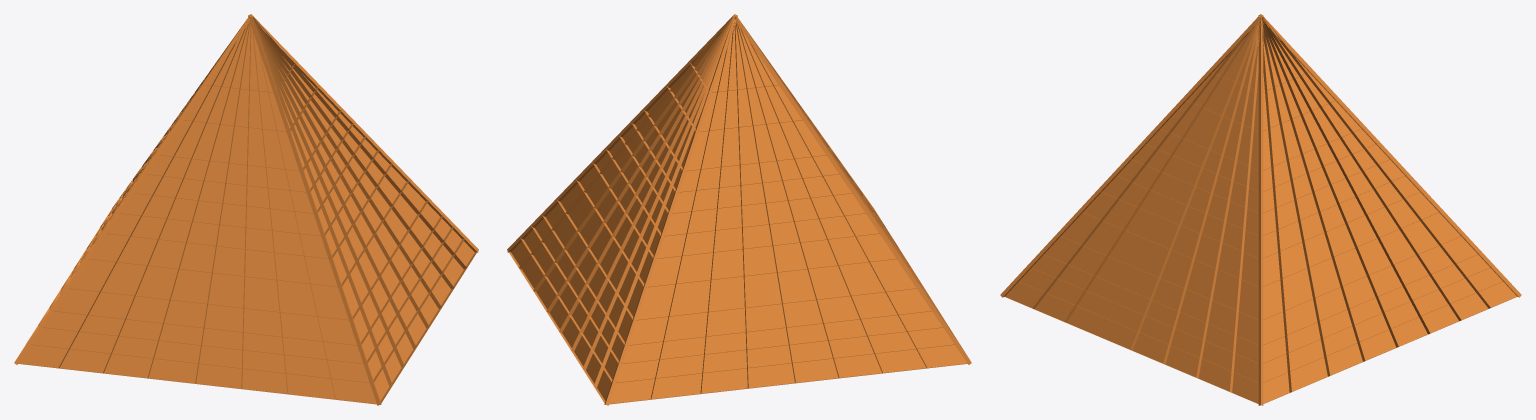
The picture shows the model from 3 angles, left to right: view 1: azimuth 30°, elevation 25°; view 2: azimuth 150°, elevation 25°; view 3: azimuth 270°, elevation 25°; orthographic projection. The views are drawn at different scales.
Parts seen in each view (by area): view 1: pyramid; view 2: pyramid; view 3: pyramid.
Part boxes in pixels (x1,y1,x2,y2): pyramid: [14, 14, 478, 405]; pyramid: [507, 14, 971, 405]; pyramid: [1000, 14, 1521, 405].
Size of the model in its own units: 200 by 120 by 200.
